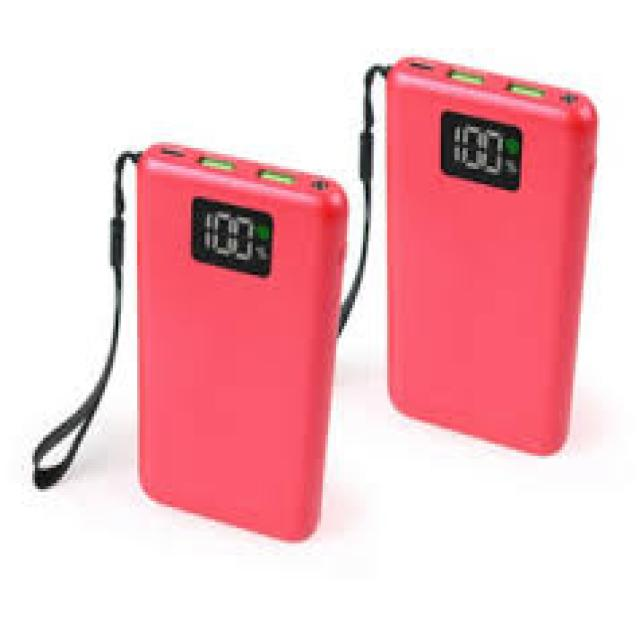portable-charger: (379, 52, 603, 466), (130, 133, 352, 548)
